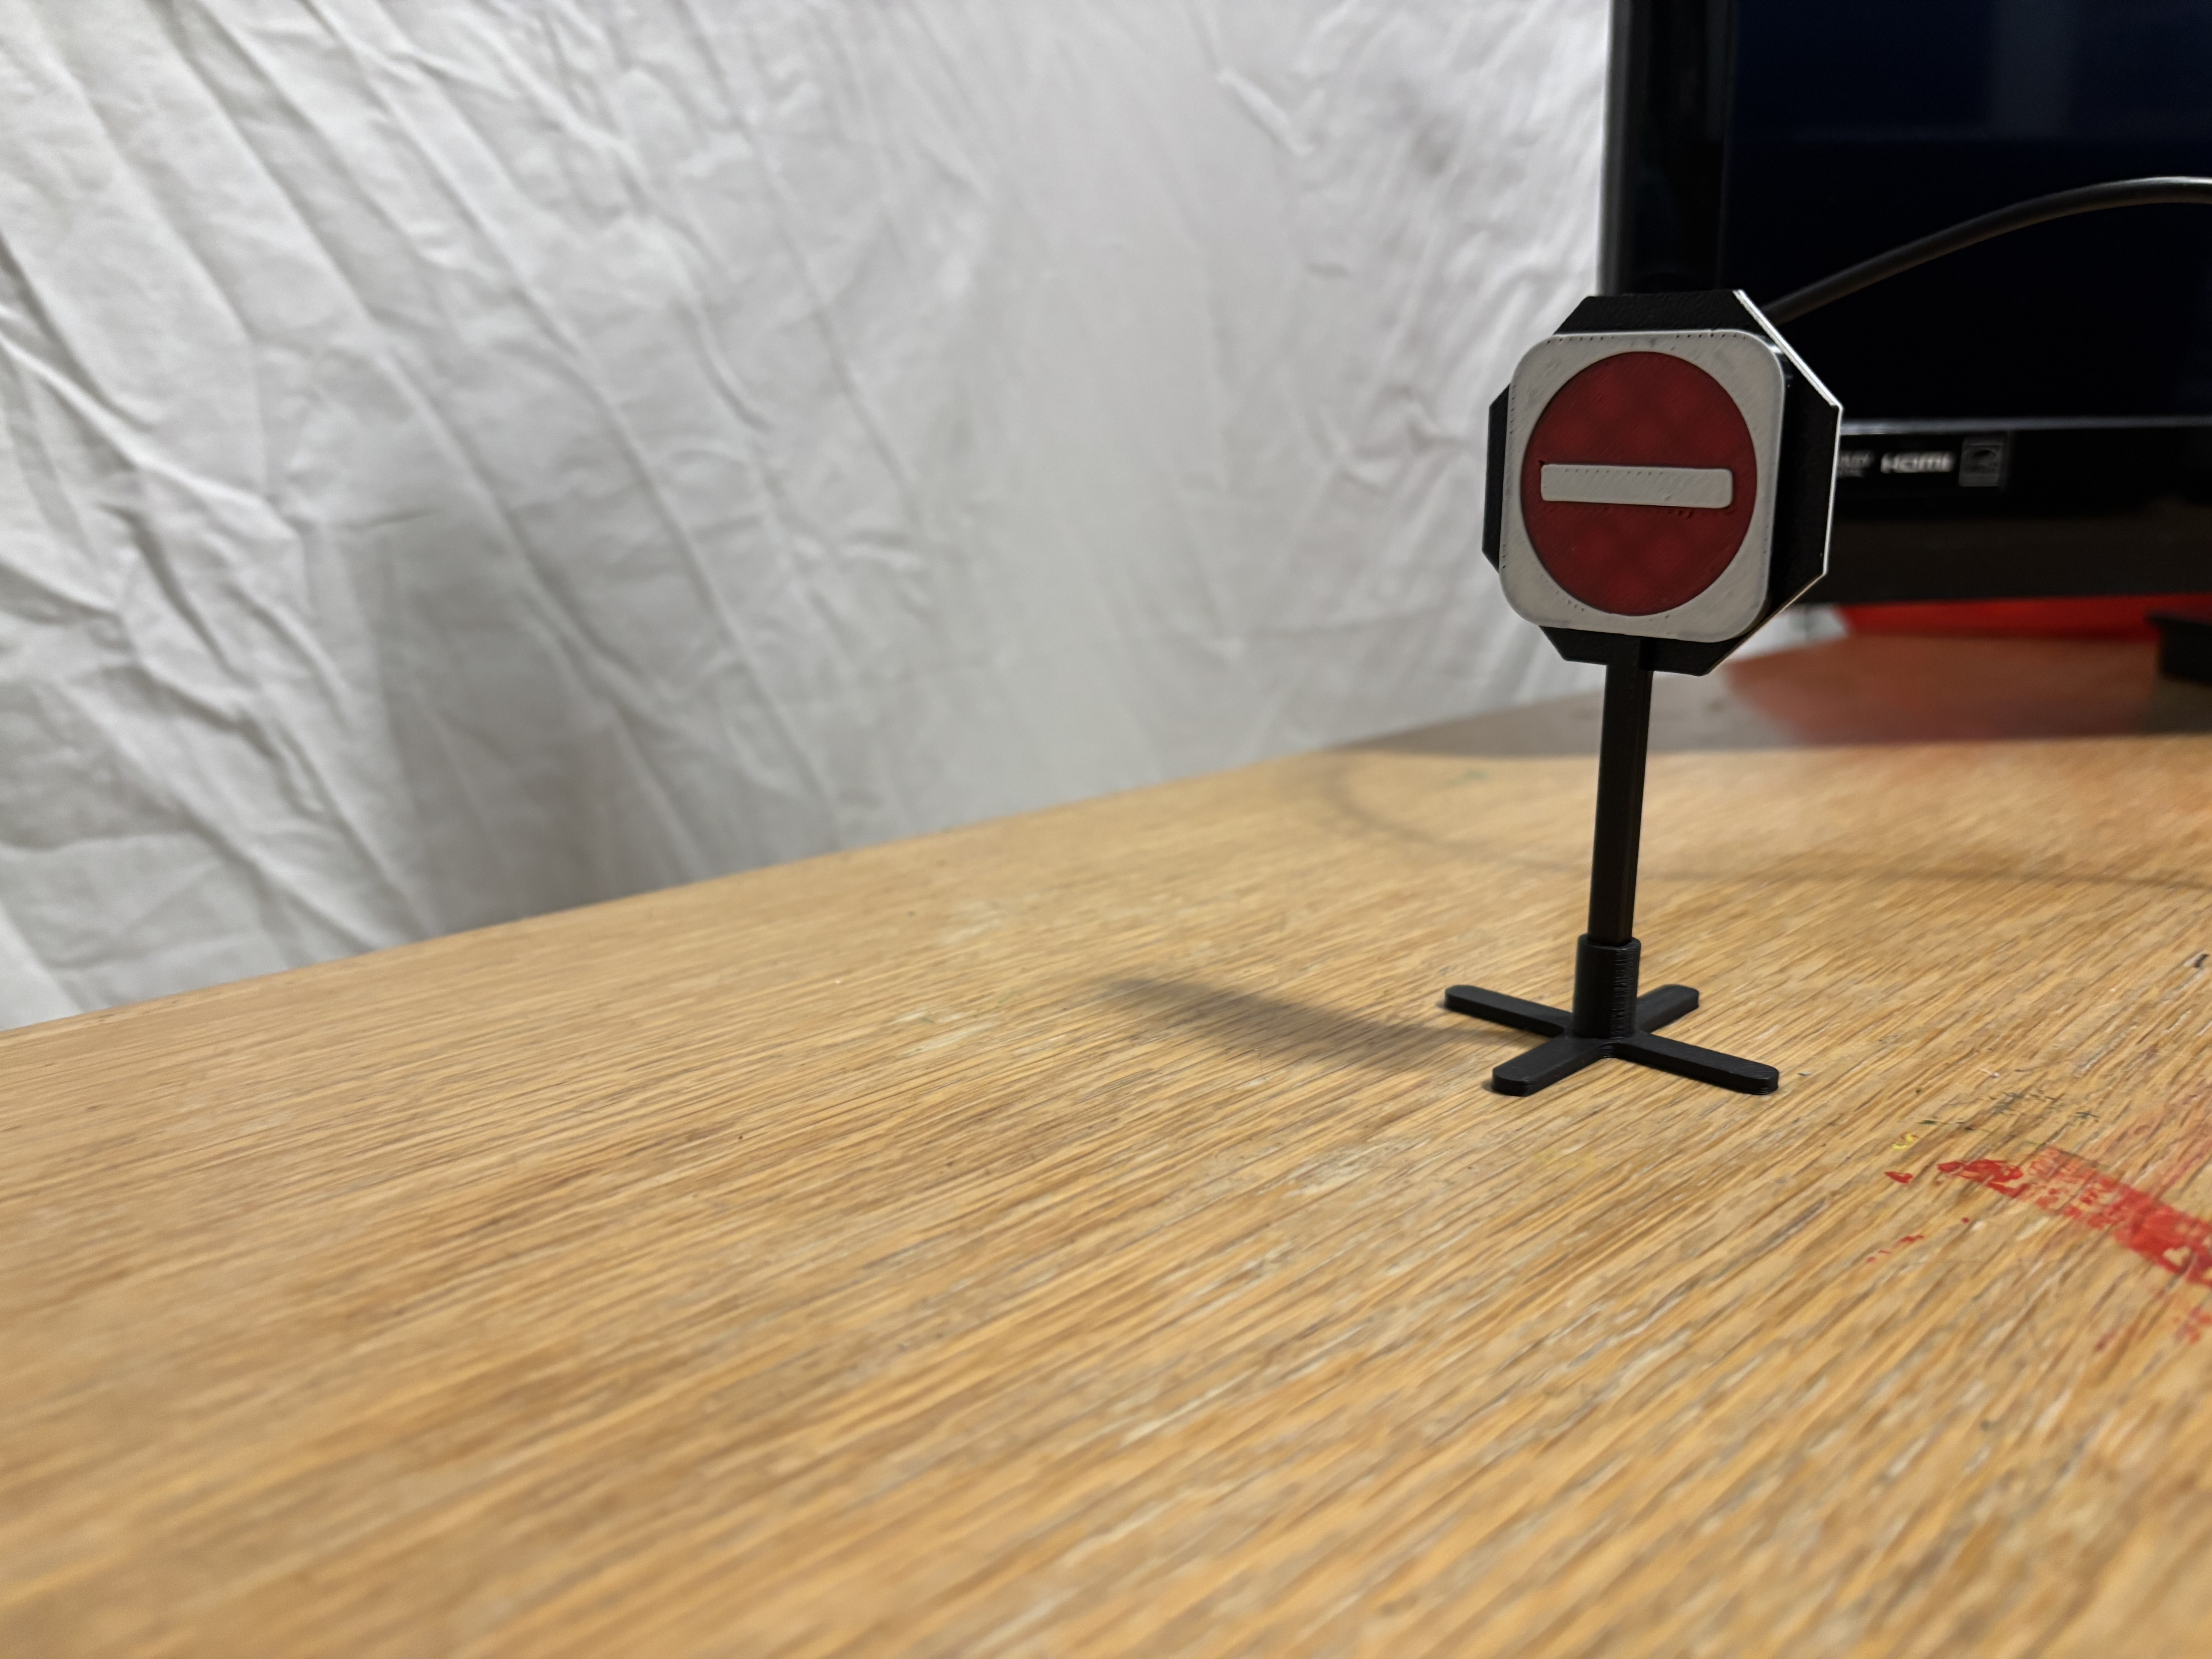sign_noentry: (1503, 331, 1794, 659)
